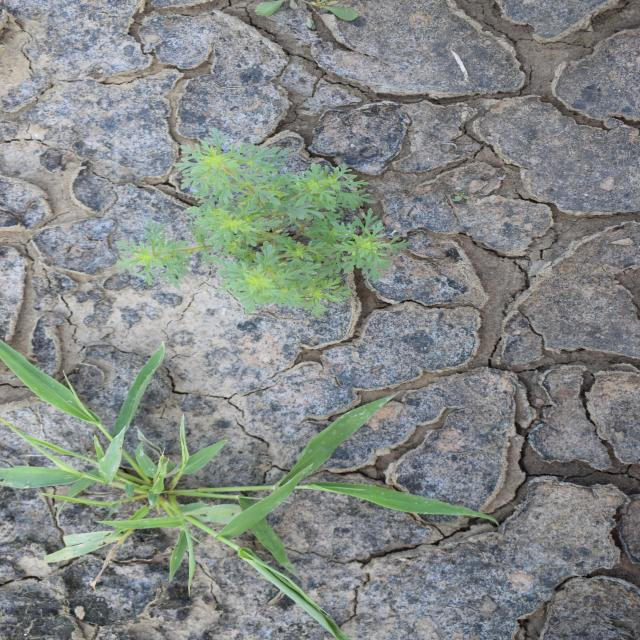Carpetweed: (255, 1, 360, 24)
Ragweed: (110, 126, 414, 321)
